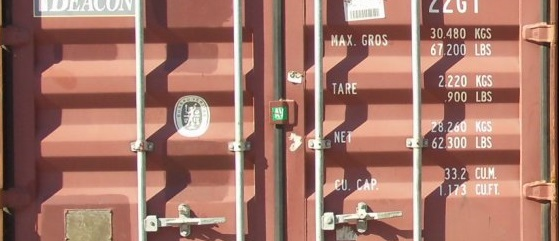container_door: (9, 3, 549, 238)
